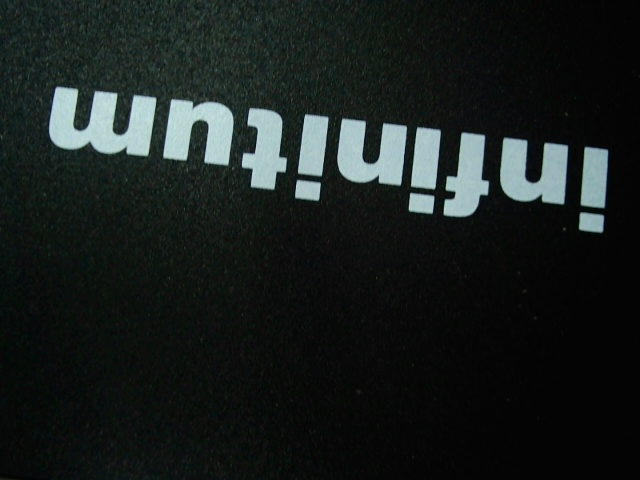BK_infinitum: (43, 77, 613, 239)
